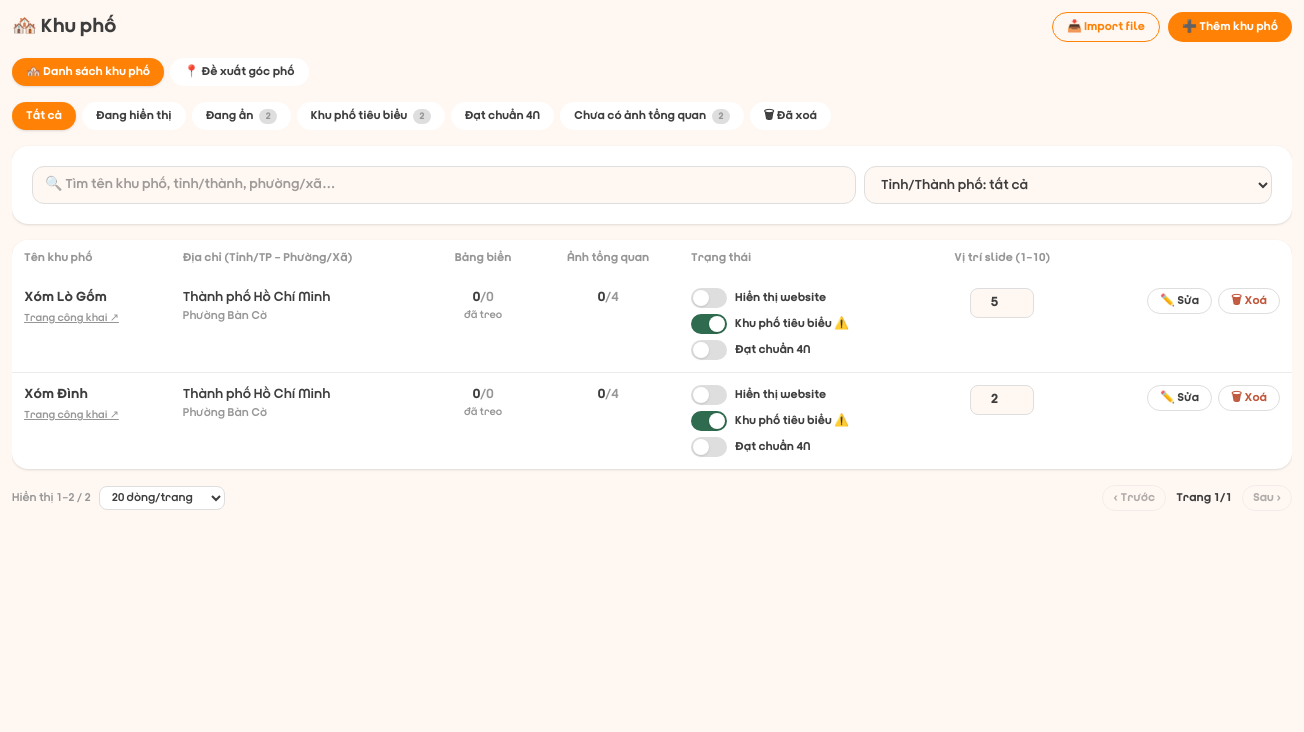
Test: /admin/khu-pho — vị trí slide 1..10 › thông báo xếp slot — đổi chỗ (khu vừa xếp đang giữ slot khác)
expect the text "Xóm Lò Gốm" is shown: met, box [24, 290, 107, 305]
Replace the text in the number field in the row of "Xóm Lò Gốm" with "2": (1002, 303) [970, 288, 1034, 318]
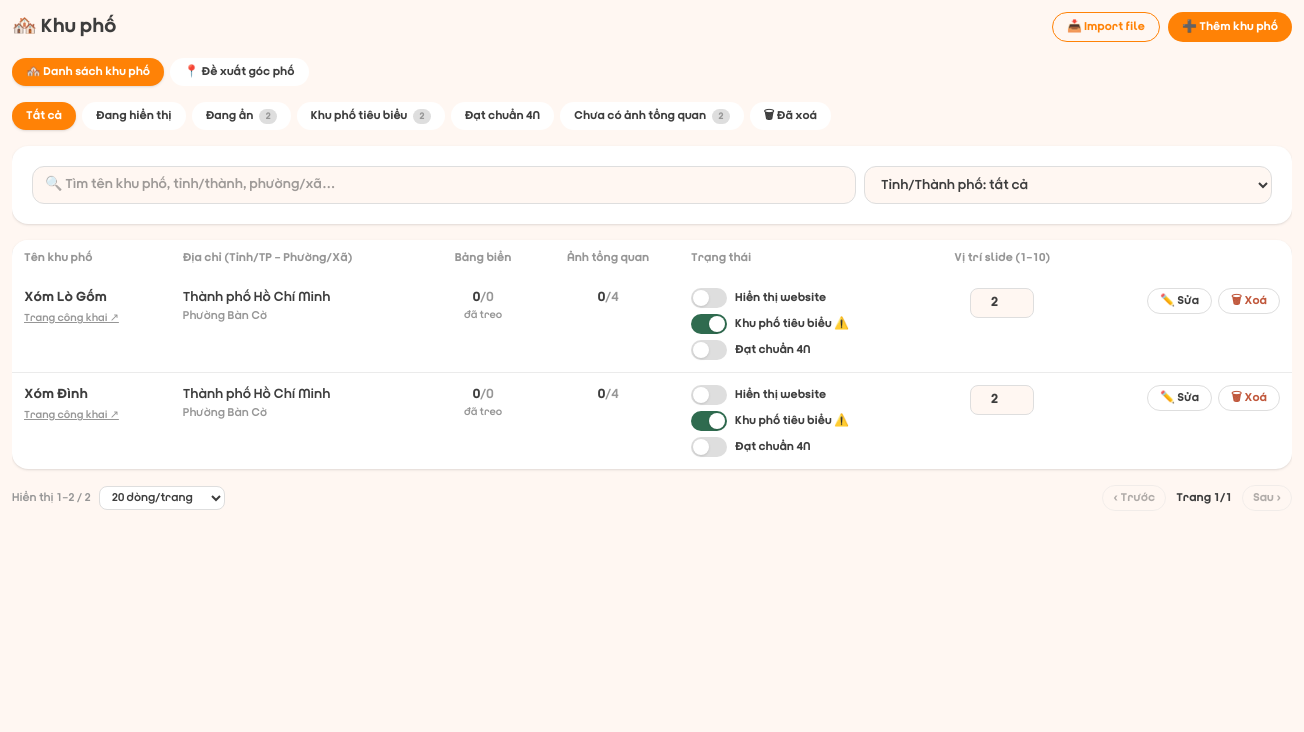
Leave the number field in the row of "Xóm Lò Gốm", box [970, 288, 1034, 318]
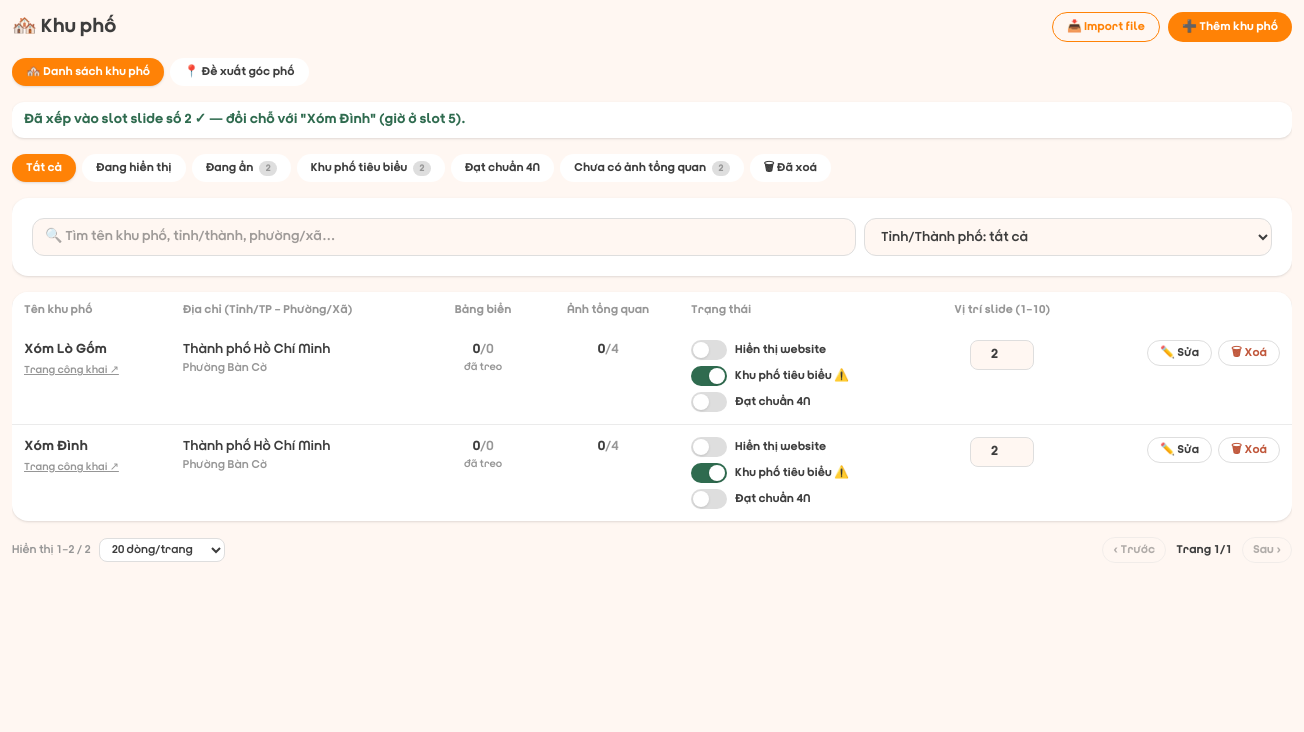
expect the text "Đã xếp vào slot slide số 2 ✓ — đổi chỗ với \"Xóm Đình\" (giờ ở slot 5)." is shown: met, box [12, 102, 1292, 138]
